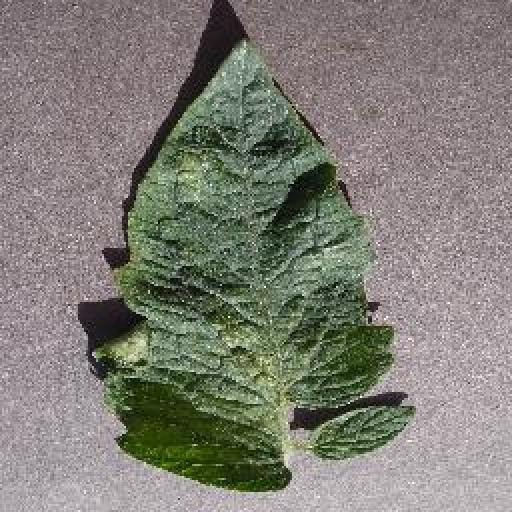Spider Mites: (95, 36, 416, 492)
